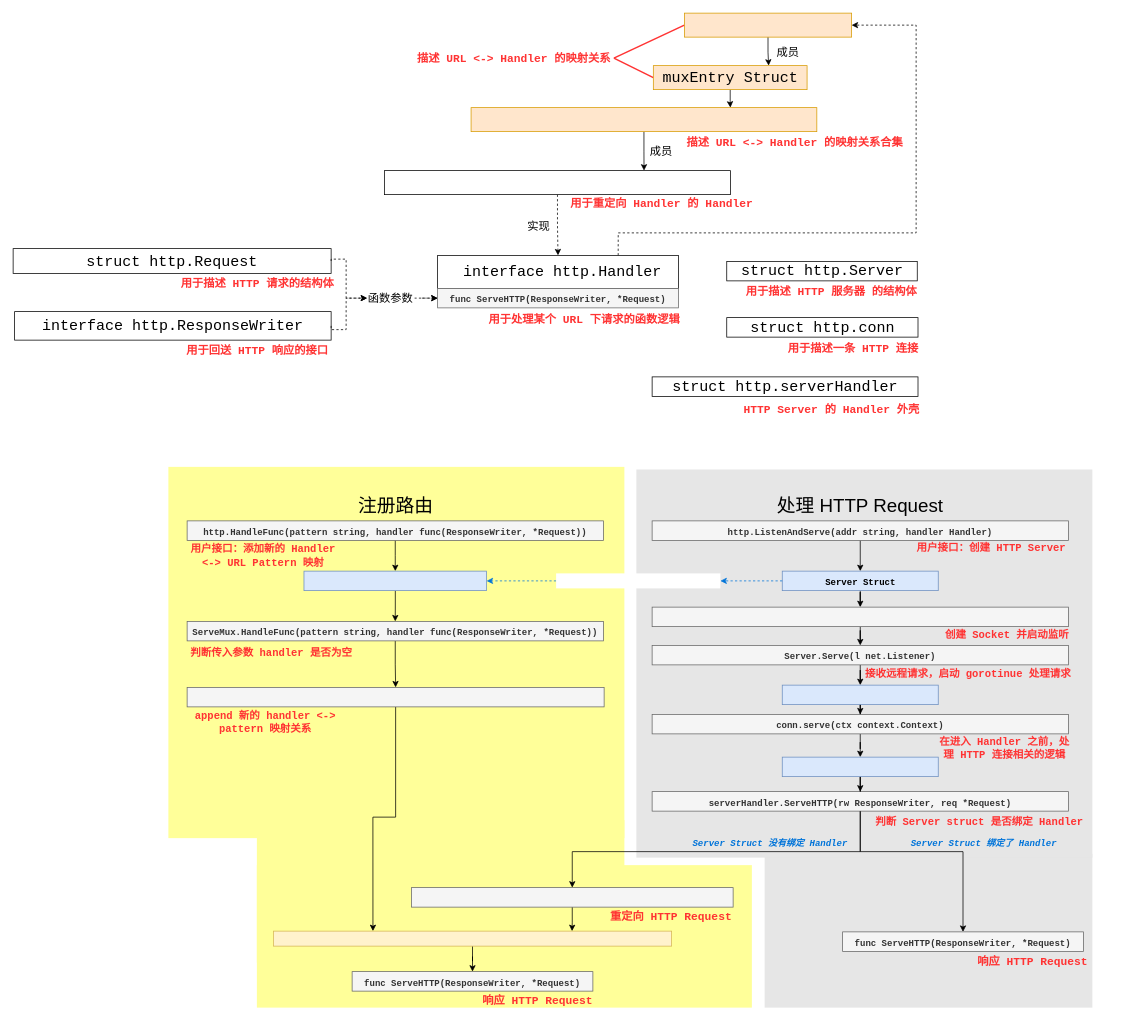
Some shapes in this 1146 by 1022 pixel diagram are drawn without their labels. Each missing label, with the centre of its shape:
http.conn: the point at 860,694
http.DefaultServeMux . ServeHTTP(ResponseWriter, *Request): the point at 572,897
http.DefaultServeMux ServeMux: the point at 395,580
http.serverHandler: the point at 860,766
muxEntry.h Handler: the point at 768,24
ServeMux. Handle(pattern string, handler Handler): the point at 395,697
ServeMux.m map(pattern)muxEntry: the point at 472,938
Server. ListenAndServe(): the point at 859,616
Server.Handler == nil: the point at 638,580
ServerMux.m map[string]muxEntry: the point at 643,119
struct http.ServerMux: the point at 557,182
